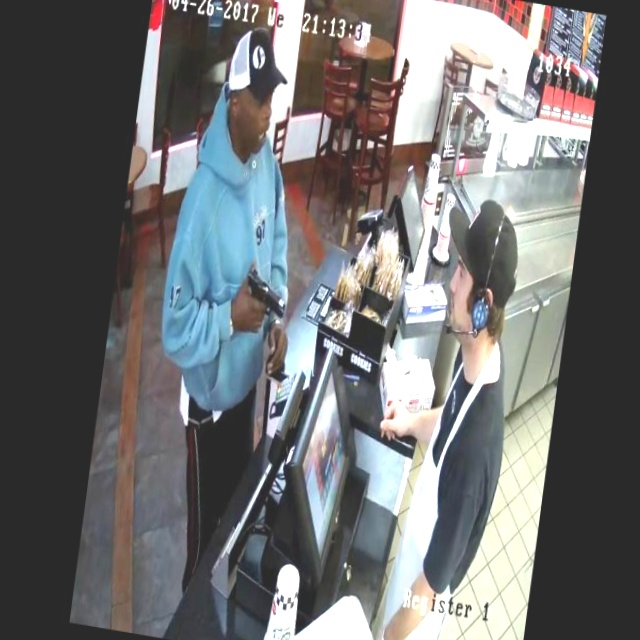gun: (225, 250, 300, 338)
